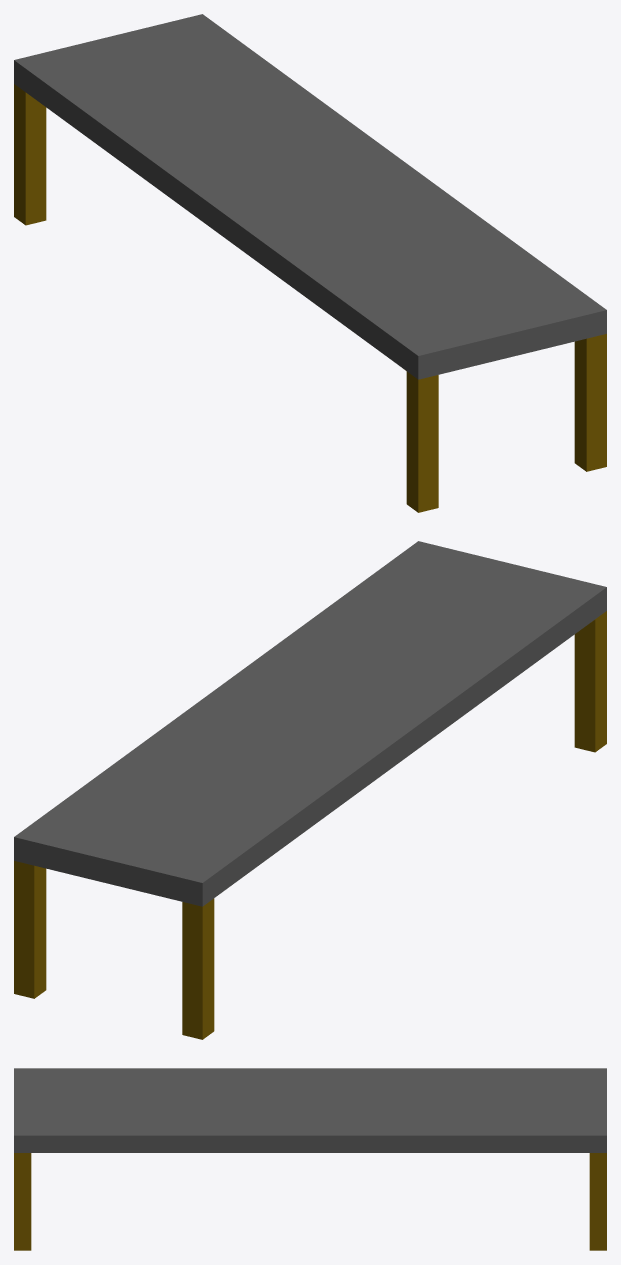
Rendered from TALL CHAIR2.001_Material.052.glb.
The picture shows the model from 3 angles, top to bottom: view 1: azimuth 30°, elevation 25°; view 2: azimuth 150°, elevation 25°; view 3: azimuth 270°, elevation 25°; orthographic projection. The views are drawn at different scales.
Visible parts, largest first — view 1: TALL CHAIR2.001_Material.052_0; view 2: TALL CHAIR2.001_Material.052_0; view 3: TALL CHAIR2.001_Material.052_0.
Boxes of the visible parts, left/top/right/bottom form: TALL CHAIR2.001_Material.052_0: left=14, top=14, right=606, bottom=512; TALL CHAIR2.001_Material.052_0: left=14, top=541, right=606, bottom=1039; TALL CHAIR2.001_Material.052_0: left=14, top=1068, right=606, bottom=1250.
Size of the model in its own units: 0.1322 by 0.105 by 0.4909.
Materials: 1 (1 with a texture image).
